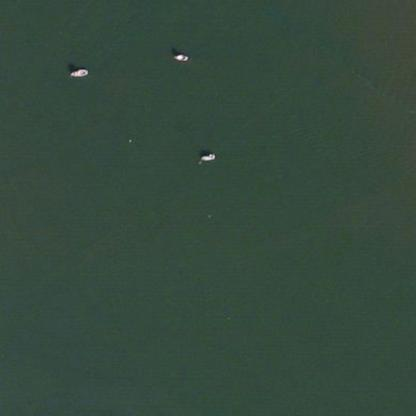ship: (66, 64, 92, 81), (195, 148, 221, 164), (170, 49, 190, 64)
